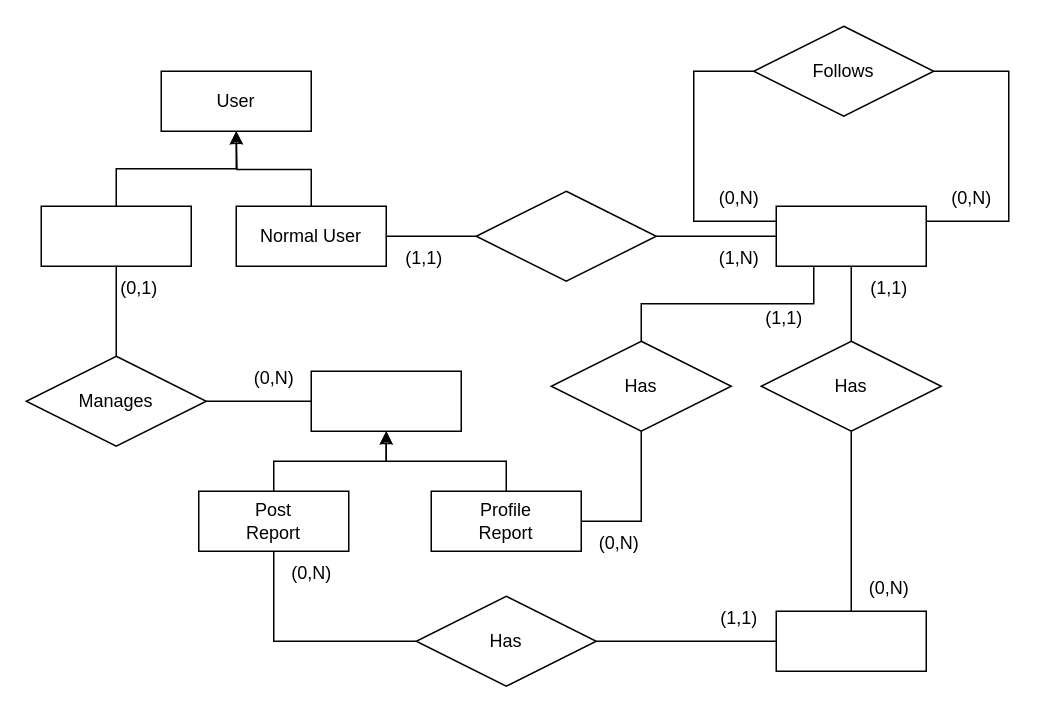
This 1037x713 diagram has some shape labels left out. Each missing label, with the centre of its shape:
Access: point (565, 235)
Admin: point (115, 235)
Post: point (850, 640)
Profile: point (850, 235)
Report: point (385, 400)
